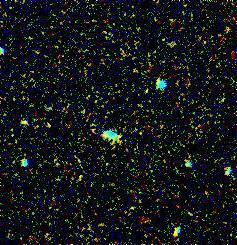star: (87, 118, 117, 148)
